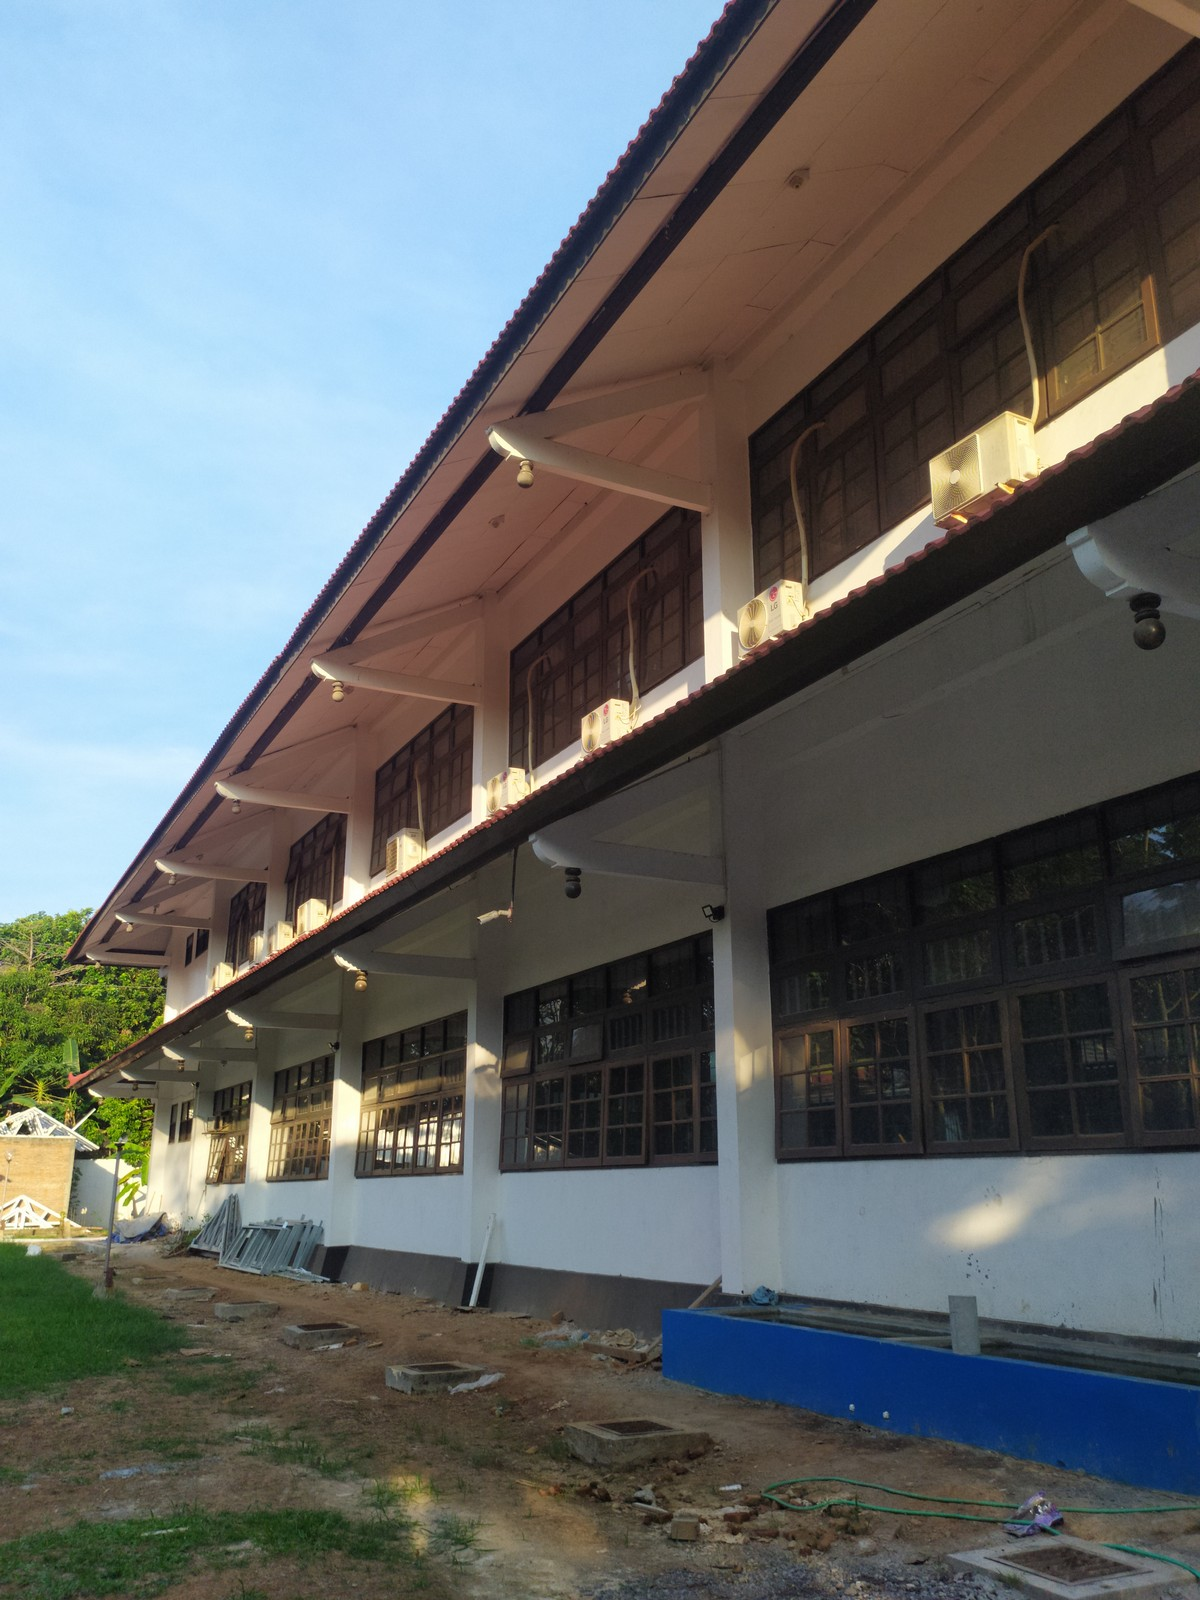concrete beam: (548, 449, 715, 515), (582, 839, 732, 888), (350, 665, 484, 711), (377, 947, 482, 976)
concrete column: (706, 769, 798, 1301), (687, 353, 765, 684), (458, 888, 512, 1279), (465, 580, 518, 819), (326, 974, 367, 1257), (337, 722, 379, 900)
